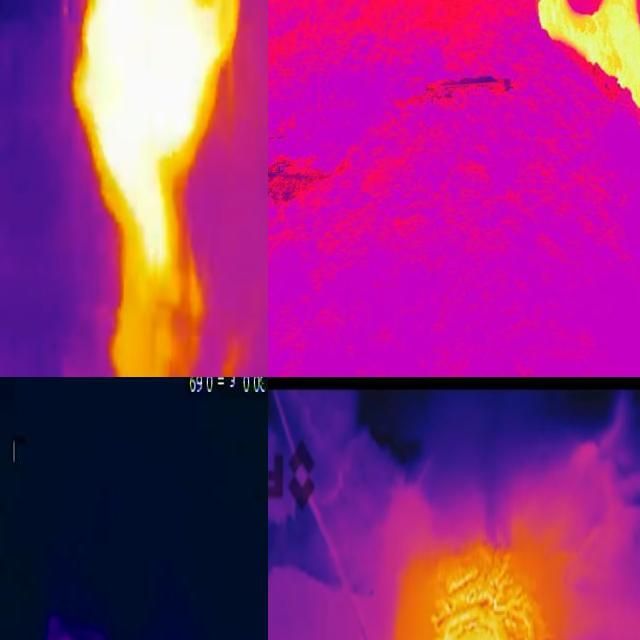fire: (71, 1, 235, 378), (528, 1, 640, 125), (419, 543, 561, 640)
